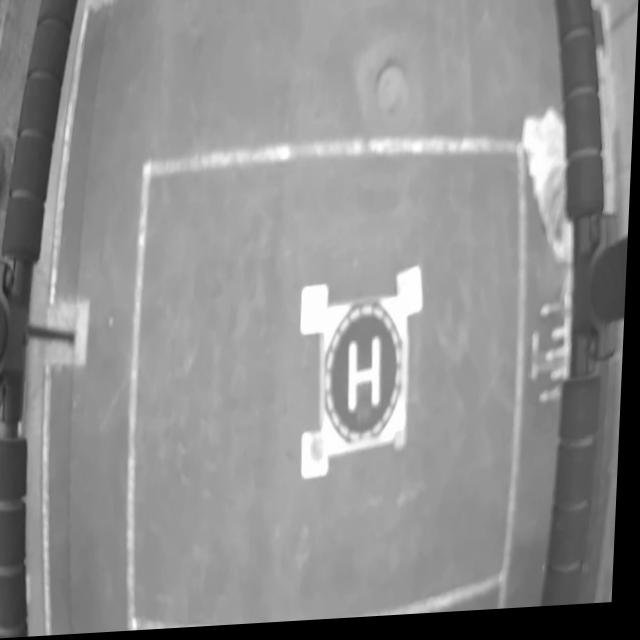Helipad: (352, 342, 385, 420)
